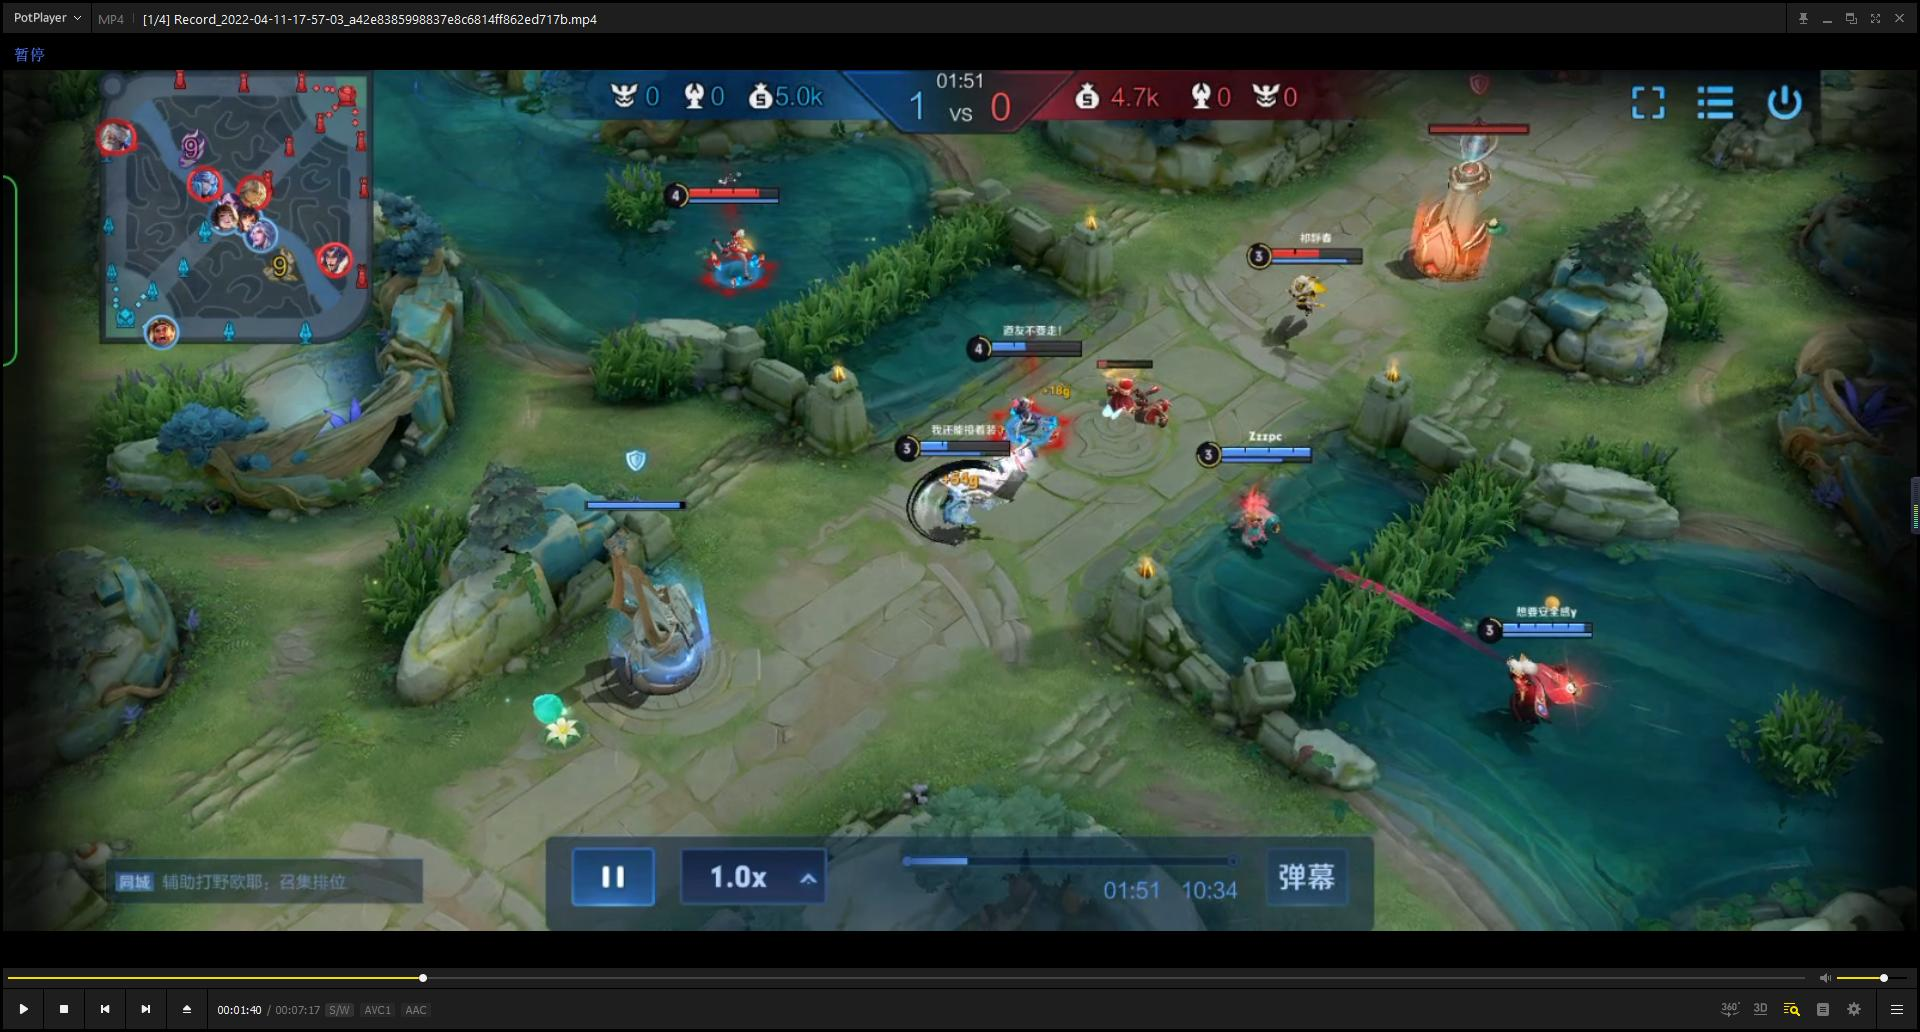Hero: (920, 464, 1047, 550), (1496, 644, 1595, 743), (1219, 477, 1302, 572), (1259, 264, 1341, 358), (976, 383, 1072, 459), (687, 217, 783, 289)
Solider: (1125, 361, 1201, 461), (1088, 343, 1142, 428)
Tower: (569, 491, 737, 731), (1388, 95, 1538, 281)
